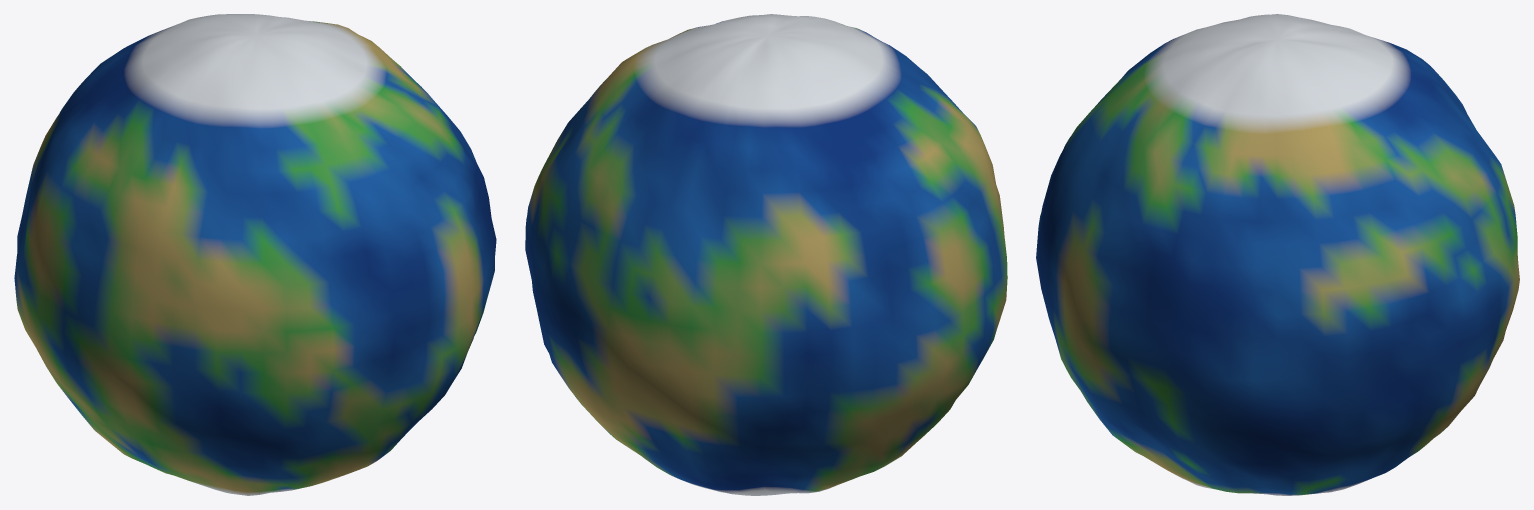
The model's file is planet_routine.glb.
3 renders of one model, left to right at view 1: azimuth 30°, elevation 25°; view 2: azimuth 150°, elevation 25°; view 3: azimuth 270°, elevation 25°, orthographic.
Visible parts, largest first — view 1: Surface; view 2: Surface; view 3: Surface.
Boxes of the visible parts, <box> form: Surface: <box>14,14,496,495</box>; Surface: <box>525,14,1007,495</box>; Surface: <box>1036,14,1519,495</box>.
Bounding box in the file's own units: 2 × 2.01 × 2.02.
